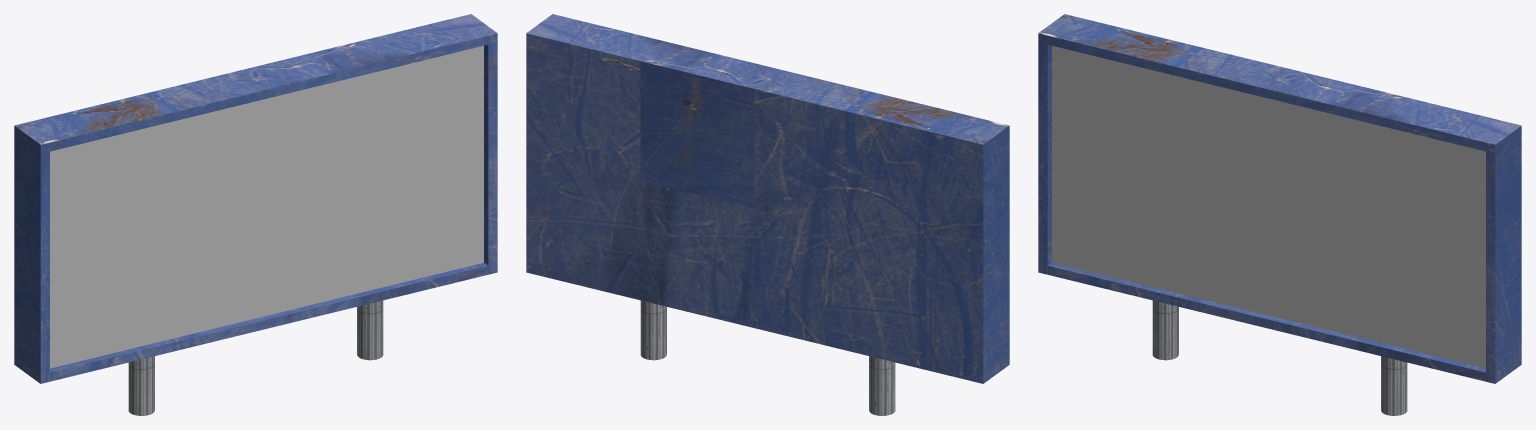
Rendered from Scoreboard.fbx.
3 renders of one model, left to right at view 1: azimuth 30°, elevation 25°; view 2: azimuth 150°, elevation 25°; view 3: azimuth 330°, elevation 25°, orthographic.
Visible parts, largest first — view 1: pCube1, pCylinder1, pCylinder2; view 2: pCube1, pCylinder1, pCylinder2; view 3: pCube1, pCylinder2, pCylinder1.
Boxes of the visible parts, x1=… form: pCube1: x1=14, y1=14, x2=497, y2=383; pCylinder1: x1=357, y1=300, x2=383, y2=360; pCylinder2: x1=128, y1=356, x2=154, y2=415; pCube1: x1=526, y1=14, x2=1009, y2=383; pCylinder1: x1=640, y1=300, x2=666, y2=360; pCylinder2: x1=869, y1=356, x2=895, y2=415; pCube1: x1=1038, y1=14, x2=1521, y2=383; pCylinder2: x1=1152, y1=300, x2=1178, y2=360; pCylinder1: x1=1381, y1=356, x2=1407, y2=415.
Size of the model in its own units: 10 by 6.34 by 1.
